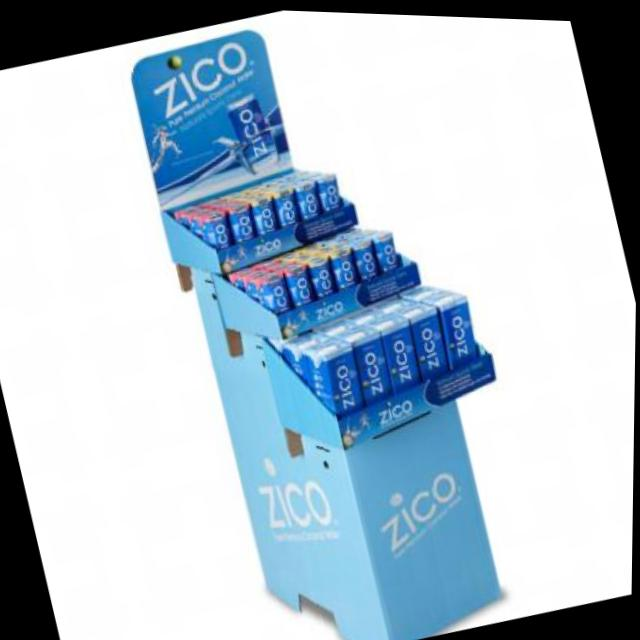box: (95, 3, 582, 640)
